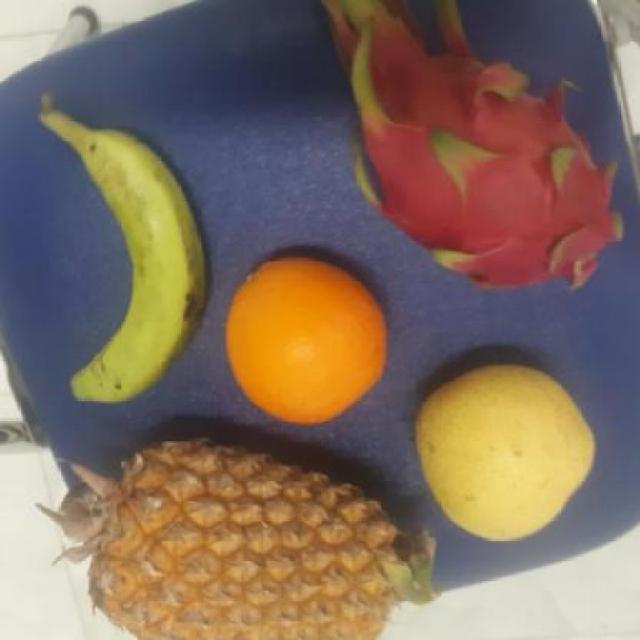banana: (59, 123, 213, 395)
dragon fruit: (353, 64, 635, 287)
guava: (413, 366, 601, 536)
pineapple: (87, 427, 424, 640)
